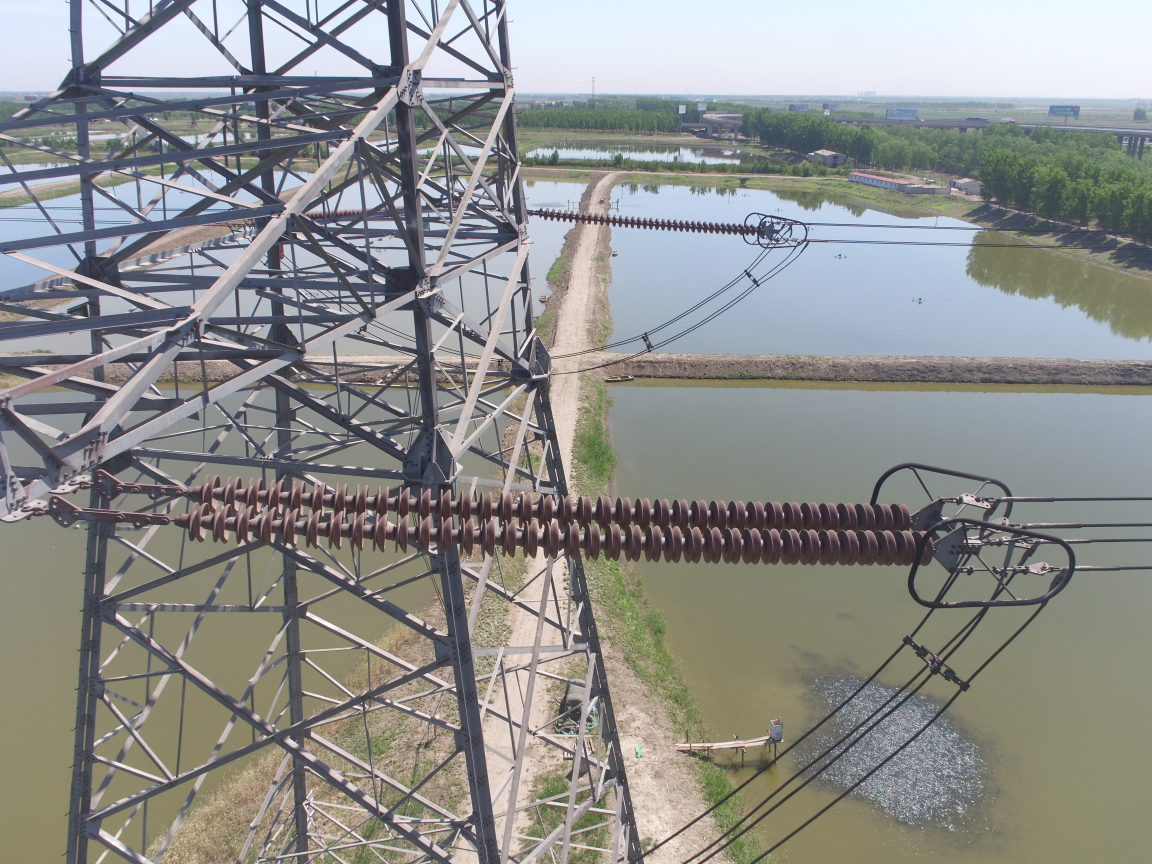insulator: (139, 472, 945, 567), (527, 206, 768, 240)
